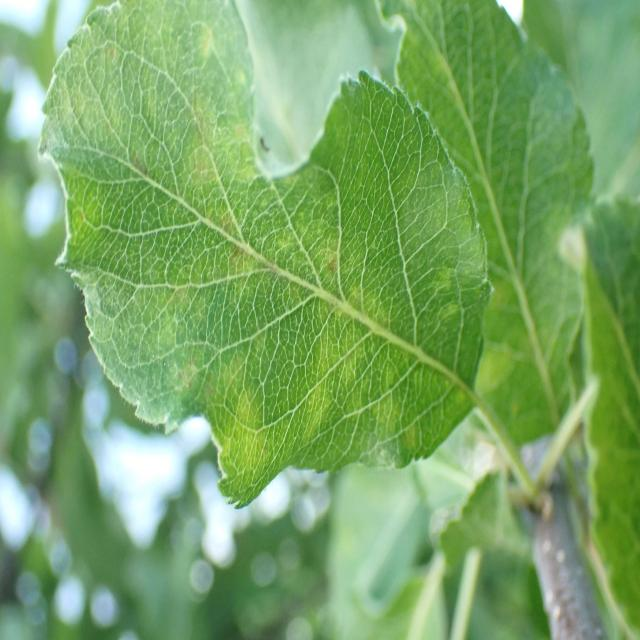scab: (64, 20, 471, 498)
